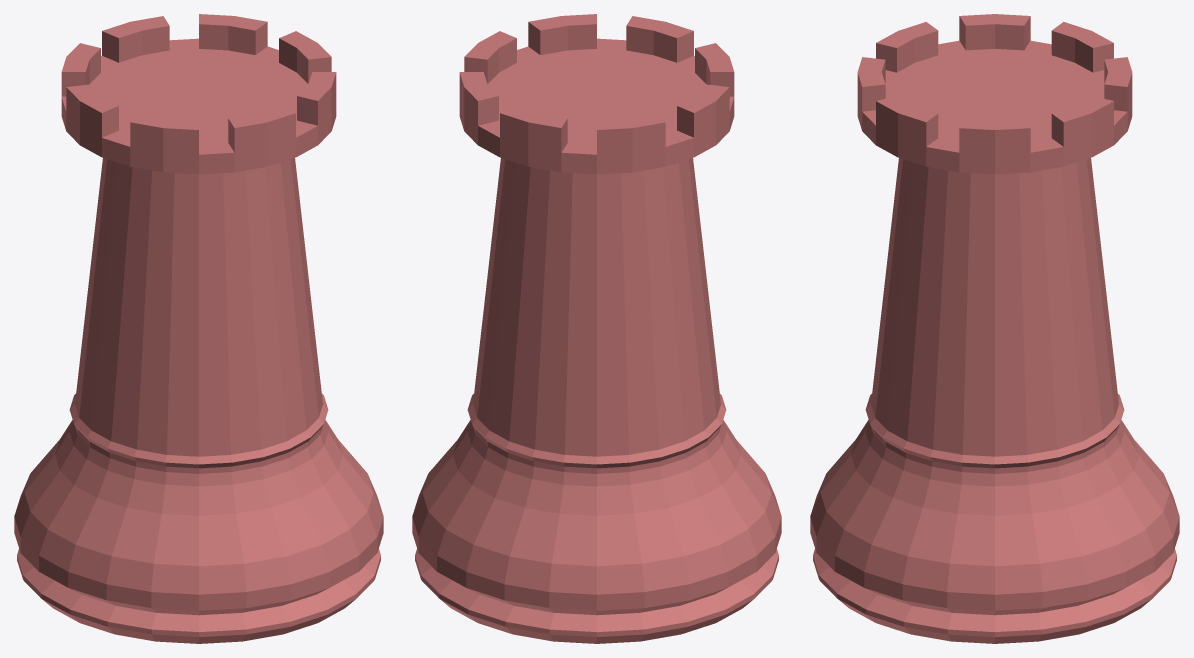
The model's file is rook0.obj.
3 renders of one model, left to right at view 1: azimuth 30°, elevation 25°; view 2: azimuth 150°, elevation 25°; view 3: azimuth 270°, elevation 25°, orthographic.
Visible parts, largest first — view 1: Mesh1_Model.002; view 2: Mesh1_Model.002; view 3: Mesh1_Model.002.
Boxes of the visible parts, bbox=[...] form: Mesh1_Model.002: bbox=[14, 14, 383, 643]; Mesh1_Model.002: bbox=[412, 14, 781, 643]; Mesh1_Model.002: bbox=[810, 14, 1179, 643].
Bounding box in the file's own units: 0.7815 × 1.17 × 0.7815.
